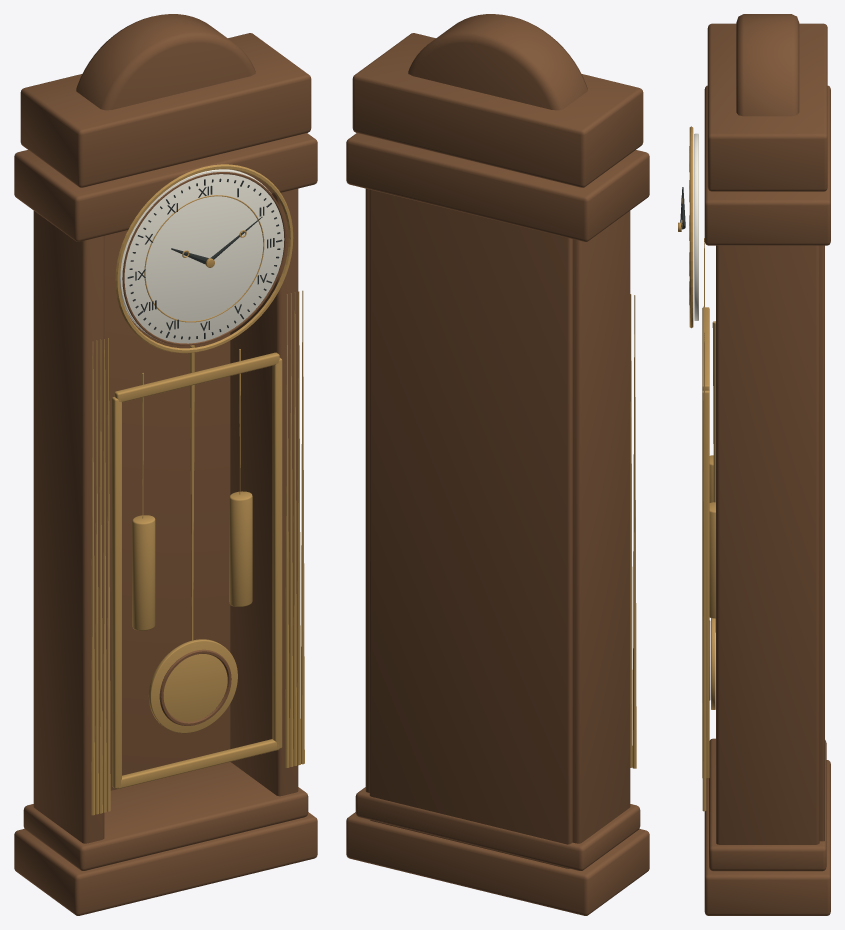
Rendered from grandfather-clock.glb.
3 views of the same model, side by side, from view 1: azimuth 30°, elevation 25°; view 2: azimuth 150°, elevation 25°; view 3: azimuth 270°, elevation 25° (orthographic).
Parts seen in each view (by area): view 1: catalog_surface_RealismUV; view 2: catalog_surface_RealismUV; view 3: catalog_surface_RealismUV.
Boxes of the visible parts, x1,y1,x2,y2 form: catalog_surface_RealismUV: [14, 14, 317, 915]; catalog_surface_RealismUV: [346, 14, 649, 915]; catalog_surface_RealismUV: [678, 14, 830, 915].
Bounding box in the file's own units: 0.62 × 2.05 × 0.34.
